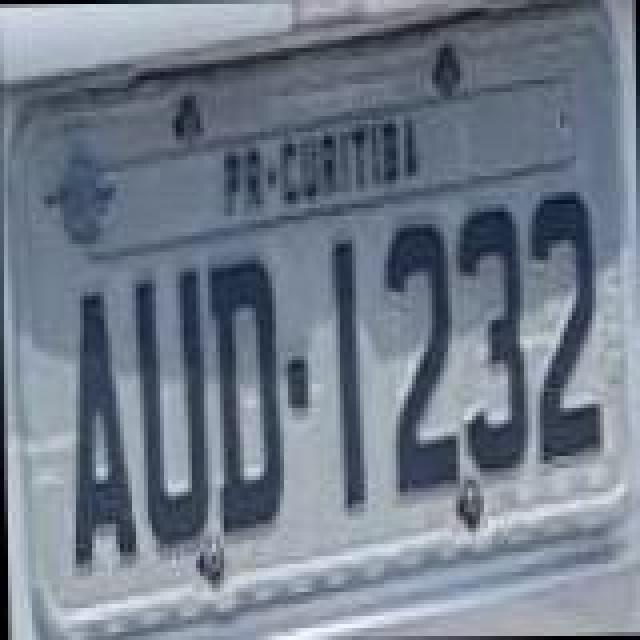1: (328, 238, 364, 514)
2: (384, 216, 460, 500), (528, 186, 604, 470)
3: (452, 204, 528, 480)
A: (64, 294, 136, 570)
D: (206, 250, 282, 538)
U: (134, 264, 210, 548)
